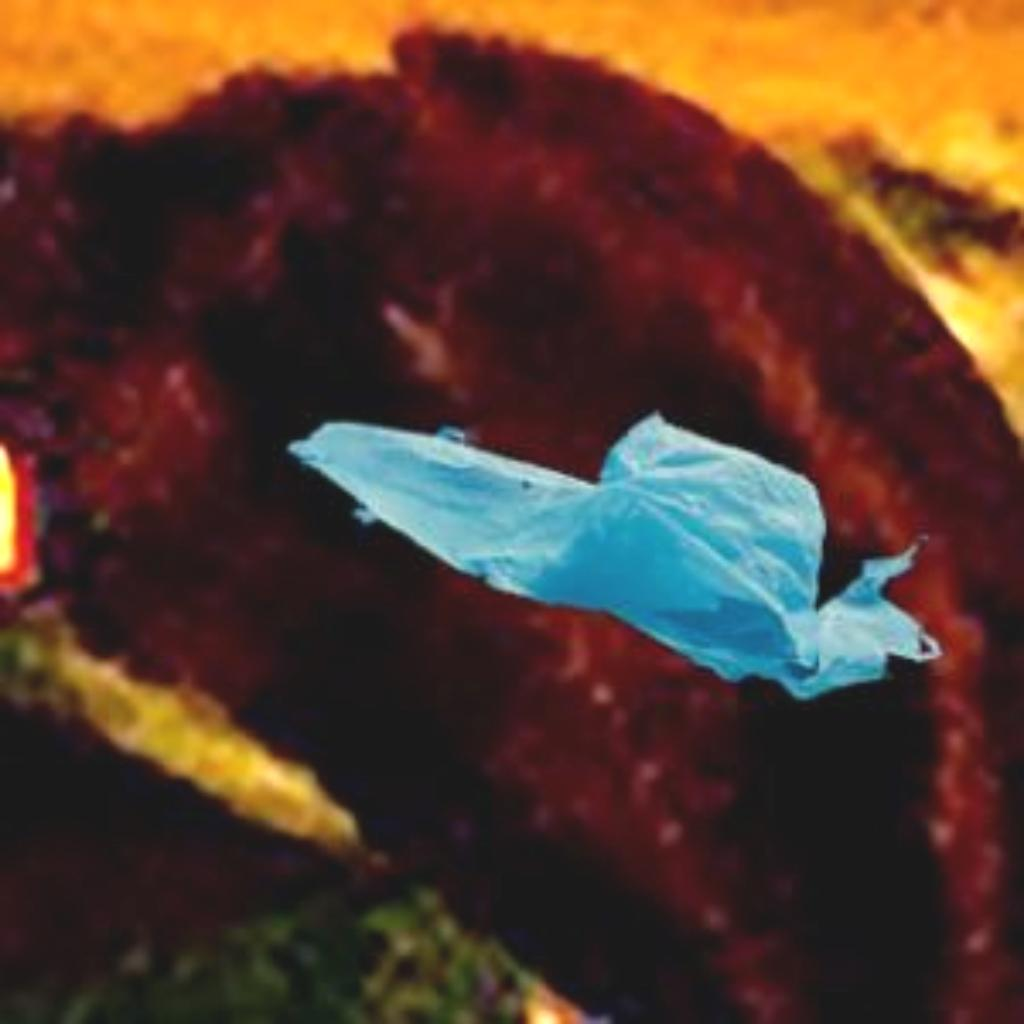garbage: (294, 362, 973, 768)
